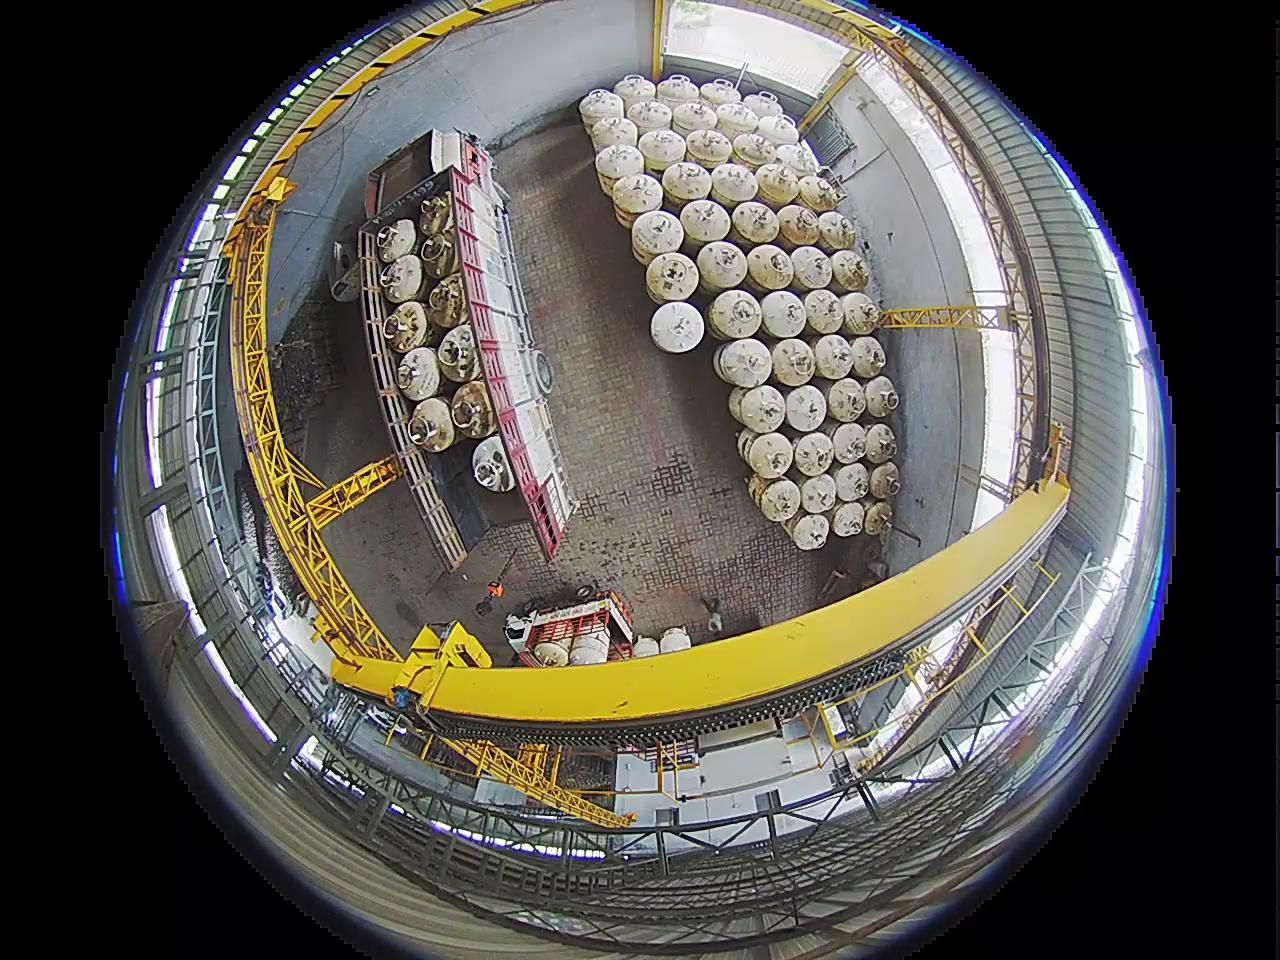cylinder: (650, 302, 729, 354), (714, 338, 771, 388), (610, 172, 657, 233), (632, 210, 682, 264), (709, 288, 763, 339), (695, 240, 748, 291), (645, 253, 697, 304), (407, 398, 455, 453), (679, 197, 731, 245), (383, 301, 431, 352), (396, 346, 442, 399), (738, 384, 788, 433), (426, 273, 469, 329), (760, 290, 808, 339), (746, 244, 794, 292), (731, 200, 781, 245), (746, 432, 794, 478), (662, 161, 712, 207), (379, 253, 423, 304), (770, 338, 815, 385), (711, 161, 759, 205), (788, 245, 833, 291), (784, 385, 828, 432), (755, 161, 801, 206), (638, 128, 687, 169), (579, 89, 623, 133), (792, 431, 836, 476), (375, 218, 417, 264), (777, 204, 821, 247), (757, 479, 801, 522), (813, 334, 856, 379), (591, 115, 637, 156), (804, 289, 846, 335), (627, 98, 673, 138), (685, 127, 733, 166), (671, 100, 719, 139), (797, 174, 842, 216), (826, 377, 867, 423), (420, 232, 459, 279), (715, 102, 760, 141), (816, 211, 858, 253), (828, 249, 870, 291), (615, 74, 657, 115), (830, 421, 870, 465), (731, 131, 776, 169), (840, 291, 881, 333), (850, 335, 888, 379), (773, 142, 817, 181), (656, 74, 700, 112), (756, 113, 800, 150), (799, 474, 839, 515), (863, 375, 900, 417), (790, 512, 830, 550), (863, 423, 899, 464), (418, 194, 453, 237), (834, 463, 871, 502), (699, 78, 741, 111), (742, 91, 784, 123), (868, 461, 902, 500), (830, 501, 867, 537), (747, 473, 778, 512), (728, 386, 757, 427), (864, 501, 894, 535), (737, 427, 762, 464), (659, 628, 690, 655)
truck: (345, 123, 558, 595), (505, 601, 658, 667), (575, 639, 614, 677)
